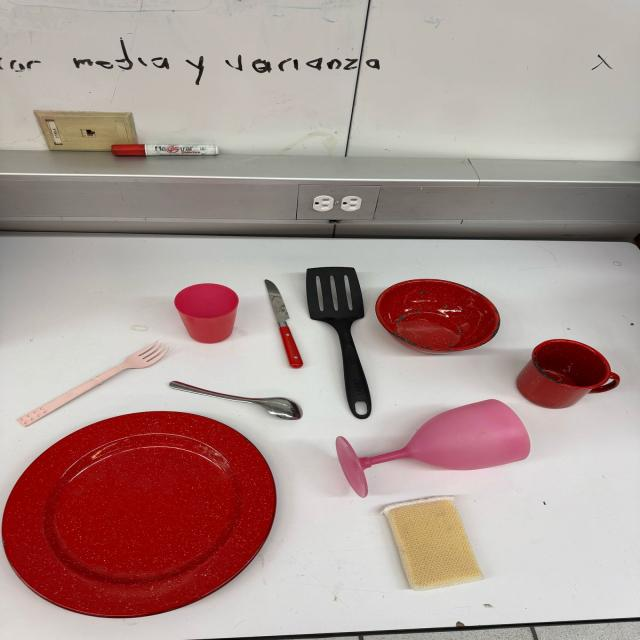cup: (517, 339, 619, 409)
fork: (11, 340, 173, 430)
glass: (174, 283, 240, 344)
knife: (261, 278, 304, 369)
plate: (0, 412, 279, 621)
spatula: (302, 266, 376, 416)
sponge: (378, 494, 484, 593)
spoon: (166, 380, 304, 422)
tazon: (374, 279, 500, 353)
wineglass: (337, 398, 526, 496)
